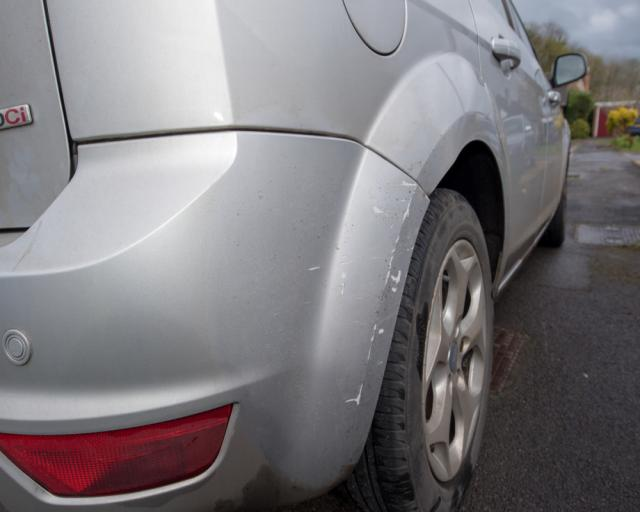scratch: (302, 176, 426, 416)
